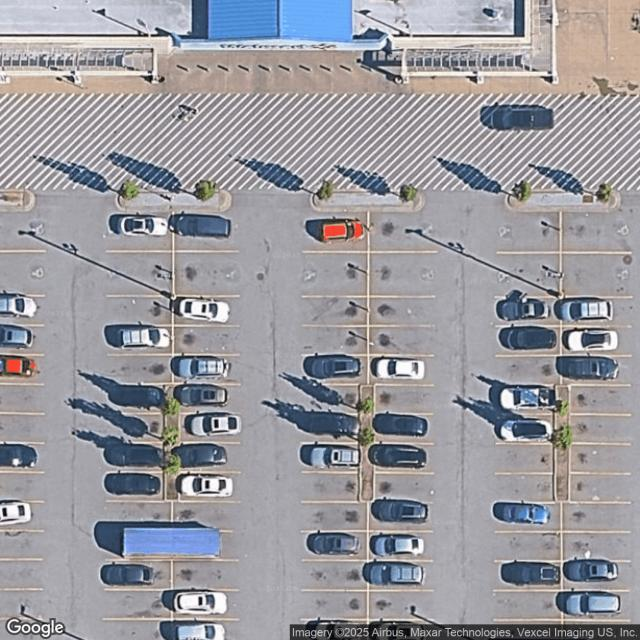car: (480, 104, 554, 131), (306, 356, 364, 384), (103, 441, 163, 467), (499, 385, 556, 411), (170, 443, 228, 468), (308, 444, 363, 470), (172, 589, 229, 614), (566, 591, 622, 616), (368, 444, 426, 468), (103, 472, 161, 496), (560, 296, 613, 322), (371, 498, 427, 522), (176, 213, 232, 237), (176, 474, 234, 497), (373, 413, 428, 437), (498, 418, 553, 442), (180, 298, 230, 324), (190, 412, 240, 438), (506, 561, 559, 585), (565, 357, 620, 380), (114, 384, 164, 409), (565, 559, 619, 582), (370, 534, 424, 557), (368, 563, 424, 585), (501, 326, 557, 348), (174, 384, 229, 406), (100, 564, 154, 586), (562, 328, 618, 349), (116, 214, 169, 236), (372, 357, 425, 379), (178, 356, 229, 378), (118, 327, 171, 348), (498, 300, 550, 321), (311, 412, 355, 436), (320, 218, 364, 242), (307, 532, 353, 554), (172, 622, 227, 640), (500, 505, 549, 524), (316, 620, 365, 638), (0, 446, 38, 468), (2, 294, 38, 316), (0, 502, 33, 524), (0, 357, 36, 376), (0, 326, 33, 346)
lot_boundary: (0, 90, 638, 639)
